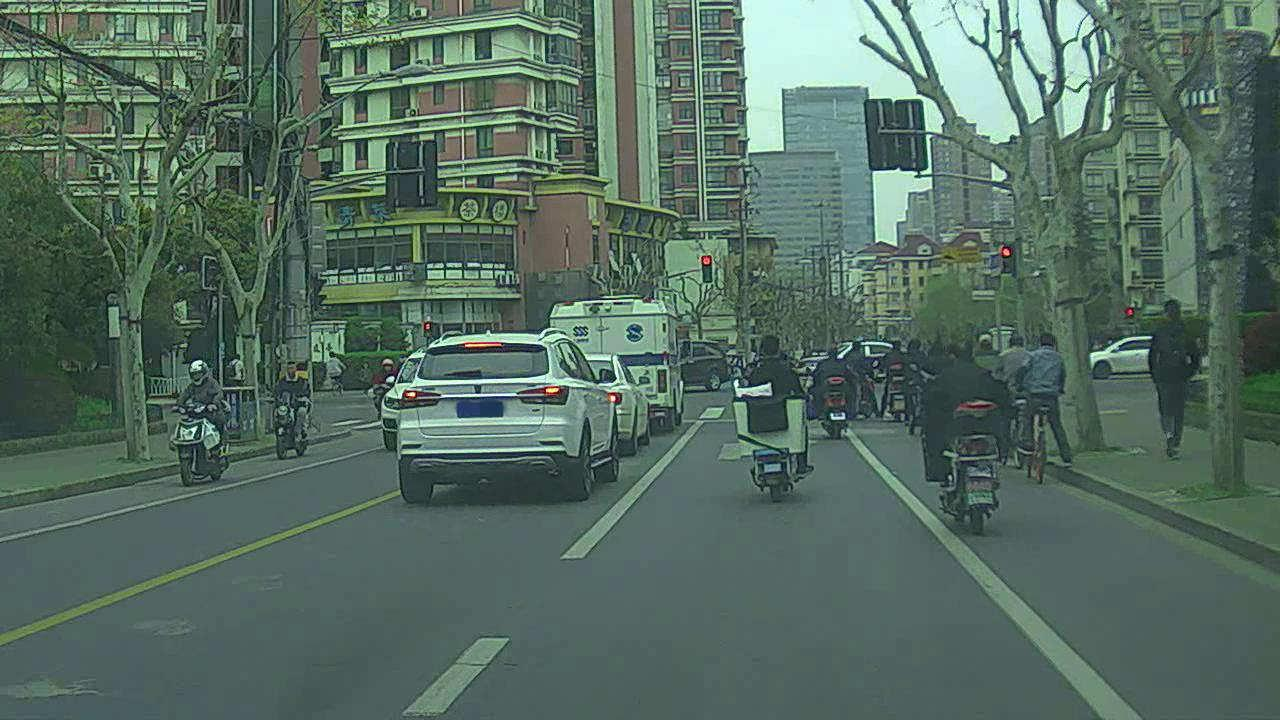traffic_light: (702, 251, 715, 284)
